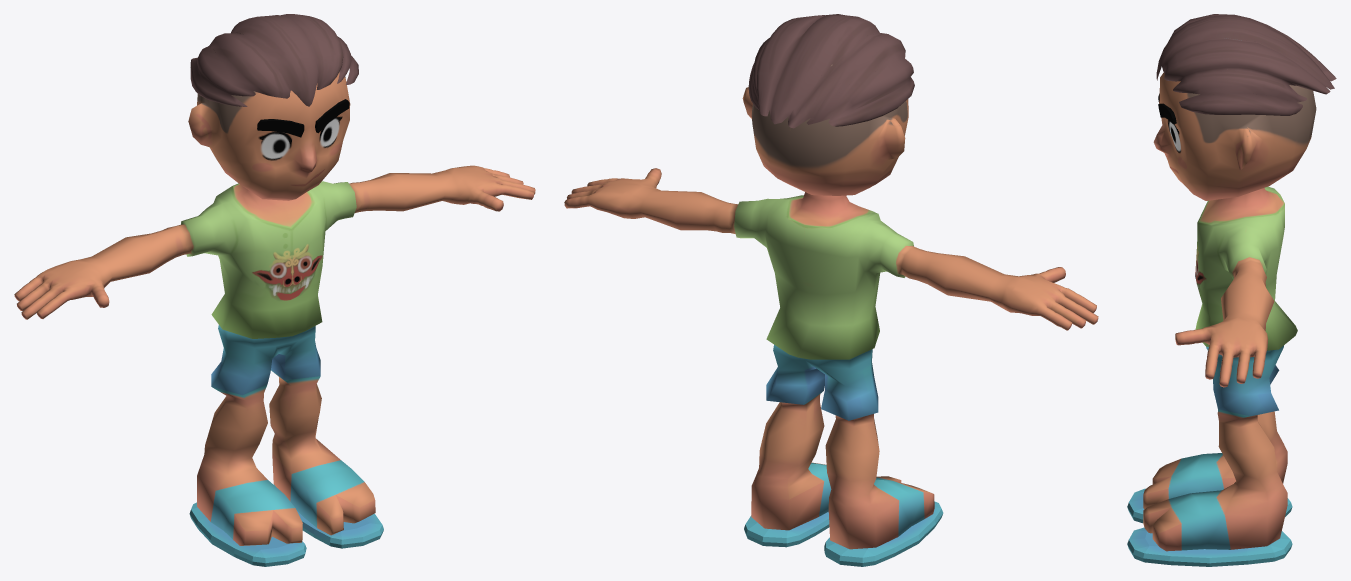
The model's file is Karakter.fbx.
The picture shows the model from 3 angles, left to right: view 1: azimuth 30°, elevation 25°; view 2: azimuth 150°, elevation 25°; view 3: azimuth 270°, elevation 25°; orthographic projection. The views are drawn at different scales.
Parts seen in each view (by area): view 1: Cube, Cube.004, Retopo_Mesh.004, Cube.002, Cube.001; view 2: Cube, Retopo_Mesh.004, Cube.004, Cube.002; view 3: Cube, Retopo_Mesh.004, Cube.004, Cube.002.
Boxes of the visible parts, box(x1,y1,x2,y2) form: Cube: box(14, 165, 535, 545); Cube.004: box(188, 72, 350, 200); Retopo_Mesh.004: box(190, 14, 358, 106); Cube.002: box(189, 484, 383, 566); Cube.001: box(257, 99, 349, 137); Cube: box(564, 168, 1098, 549); Retopo_Mesh.004: box(748, 14, 914, 128); Cube.004: box(742, 64, 908, 195); Cube.002: box(744, 501, 943, 566); Cube: box(1143, 186, 1297, 551); Retopo_Mesh.004: box(1156, 14, 1336, 115); Cube.004: box(1153, 72, 1316, 200); Cube.002: box(1127, 488, 1292, 566).
Bounding box in the file's own units: 868 × 811 × 301.
3 materials, 3 textured.
